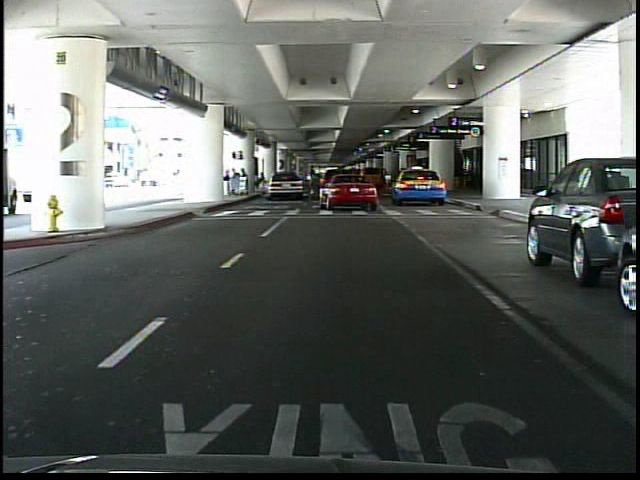person: (307, 165, 319, 199)
